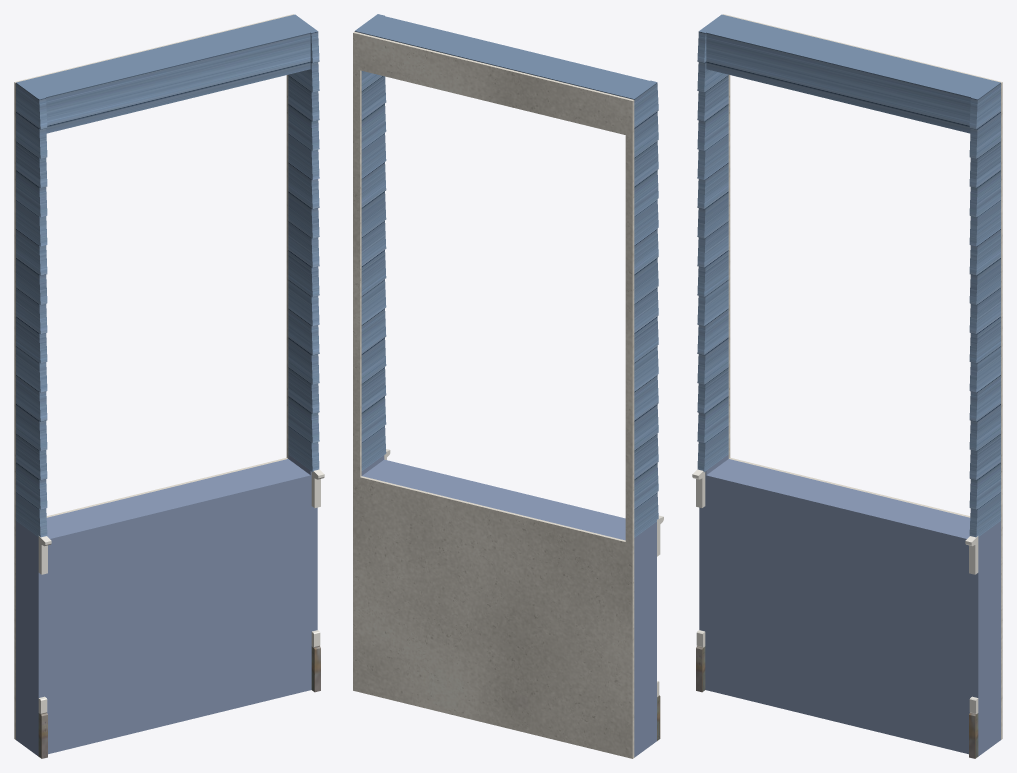
The model's file is f_g_bay_d.glb.
3 views of the same model, side by side, from view 1: azimuth 30°, elevation 25°; view 2: azimuth 150°, elevation 25°; view 3: azimuth 330°, elevation 25° (orthographic).
Parts seen in each view (by area): view 1: f_g_bay_d_acc_d, f_g_bay_d_siding_d, f_g_bay_d_plaster, f_g_bay_d_trim, f_g_bay_d_plinth; view 2: f_g_bay_d_plaster, f_g_bay_d_siding_d, f_g_bay_d_acc_d; view 3: f_g_bay_d_acc_d, f_g_bay_d_siding_d, f_g_bay_d_plaster, f_g_bay_d_trim, f_g_bay_d_plinth.
Part boxes in pixels (bbox=[...]): f_g_bay_d_acc_d: bbox=[16, 455, 317, 756]; f_g_bay_d_siding_d: bbox=[16, 14, 319, 537]; f_g_bay_d_plaster: bbox=[14, 14, 293, 739]; f_g_bay_d_trim: bbox=[38, 469, 324, 713]; f_g_bay_d_plinth: bbox=[38, 646, 320, 758]; f_g_bay_d_plaster: bbox=[353, 31, 634, 758]; f_g_bay_d_siding_d: bbox=[354, 14, 658, 537]; f_g_bay_d_acc_d: bbox=[361, 455, 656, 757]; f_g_bay_d_acc_d: bbox=[699, 455, 1000, 756]; f_g_bay_d_siding_d: bbox=[697, 14, 1000, 537]; f_g_bay_d_plaster: bbox=[723, 14, 1002, 739]; f_g_bay_d_trim: bbox=[692, 469, 978, 713]; f_g_bay_d_plinth: bbox=[696, 646, 978, 758].
Size of the model in its own units: 2 by 4.5 by 0.385.
5 materials, 3 textured.
